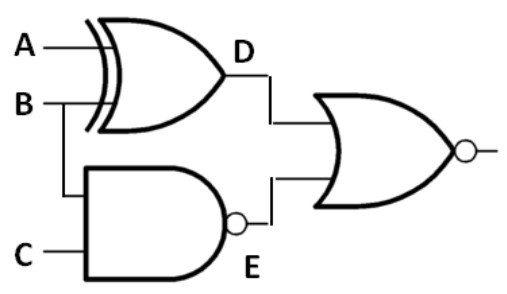nand gate: (82, 162, 252, 287)
nor gate: (309, 89, 481, 210)
xor gate: (79, 15, 233, 136)
